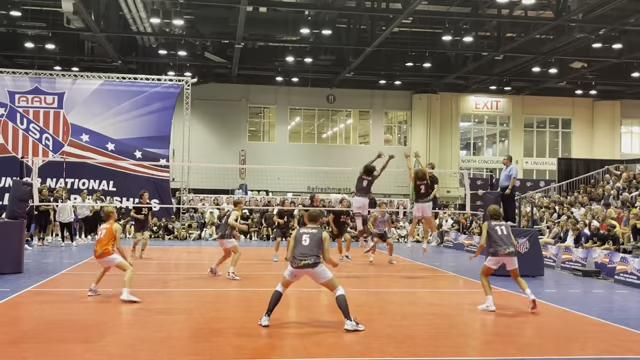attacco: (424, 162, 448, 247)
muro: (405, 147, 443, 256), (347, 148, 395, 232)
